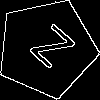Z: (21, 23, 76, 78)
